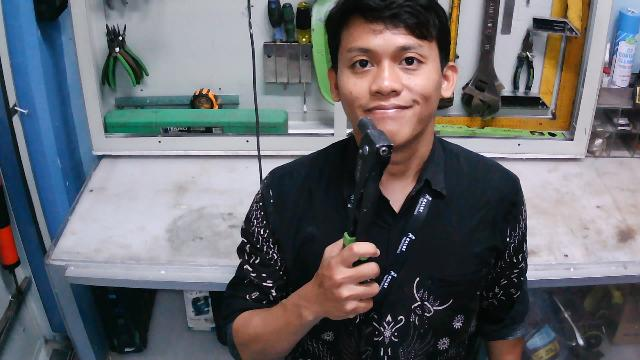tang_rivet: (335, 116, 393, 276)
